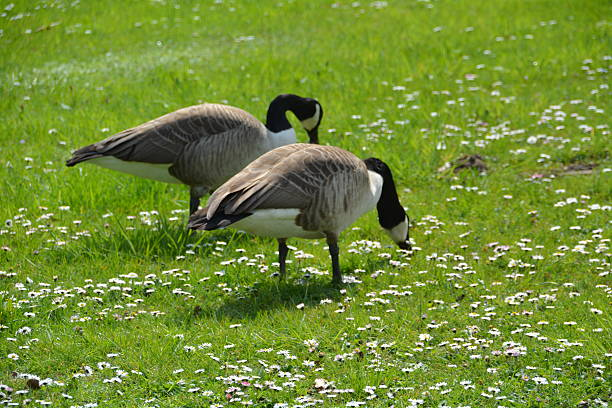goose: (61, 91, 325, 230), (184, 140, 412, 293)
